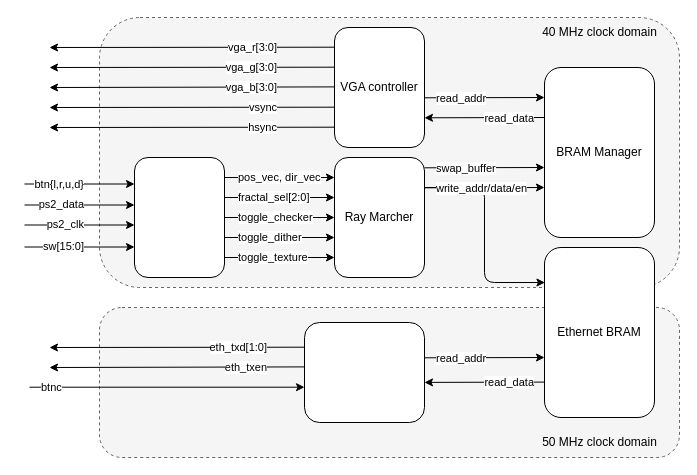
This 697x475 diagram has some shape labels left out. The shapes that lost their labels are listed below. From the top down, each one's centre as x and y in pixels, then its label:
At (x=179, y=217): "User control".
At (x=364, y=372): "Ethernet Export".
